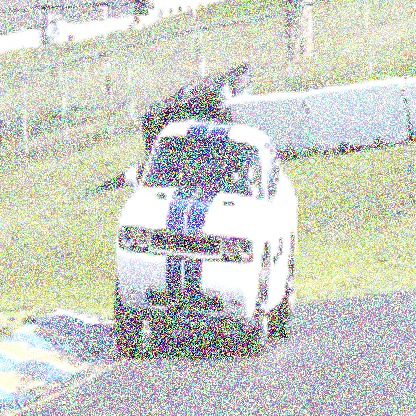Vehicle: (116, 124, 298, 352)
